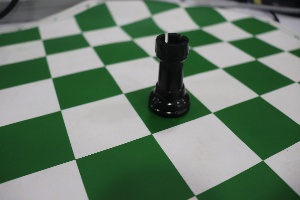black_rook: (141, 16, 195, 125)
